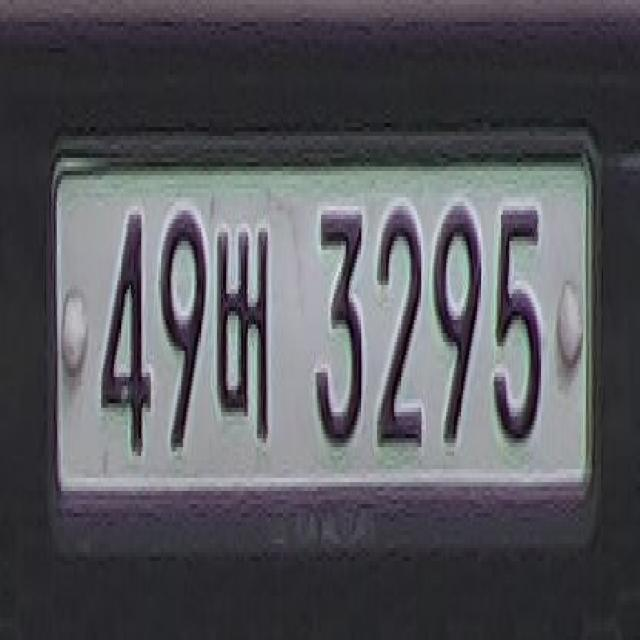2: (373, 190, 427, 462)
3: (312, 196, 366, 464)
4: (92, 202, 158, 474)
5: (490, 190, 544, 450)
9: (430, 191, 486, 456), (159, 199, 209, 472)
beo: (210, 219, 274, 461)
license_plate: (43, 117, 599, 542)
